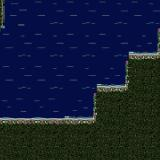Interaction: (0, 113, 106, 134), (119, 43, 138, 79), (88, 78, 106, 114), (106, 78, 138, 96), (139, 44, 160, 65)
Slow: (0, 0, 93, 117), (94, 0, 125, 84), (125, 0, 160, 51)
